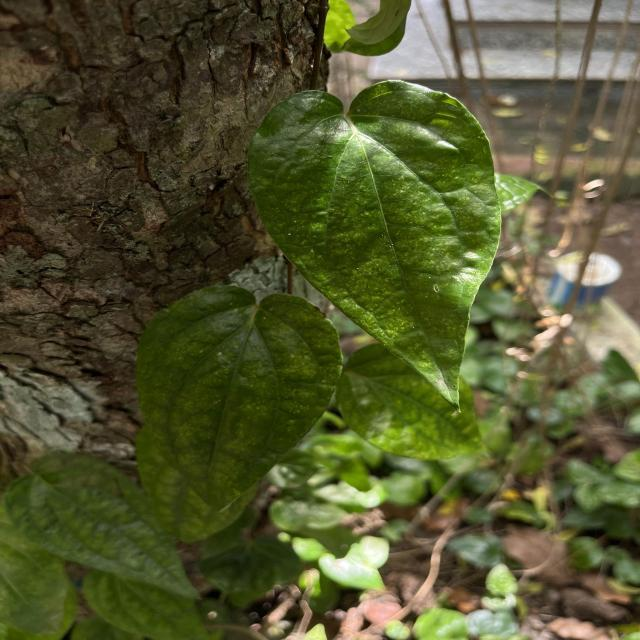Piper betle: (244, 76, 503, 416)
